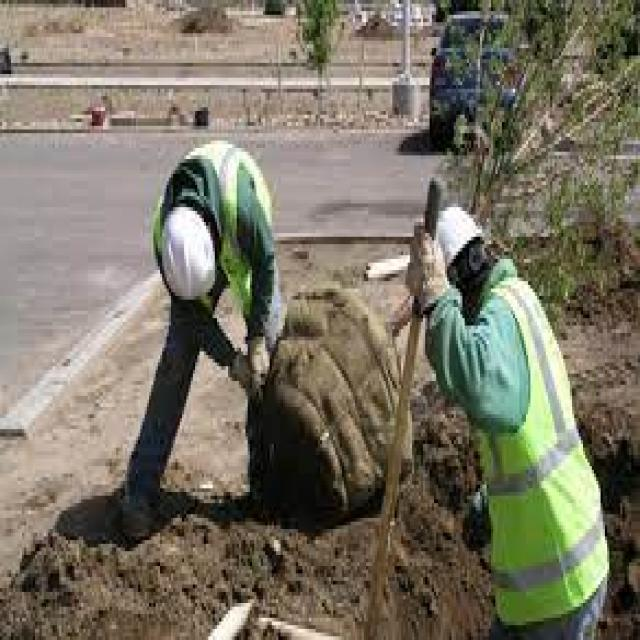plant: (243, 0, 640, 529)
